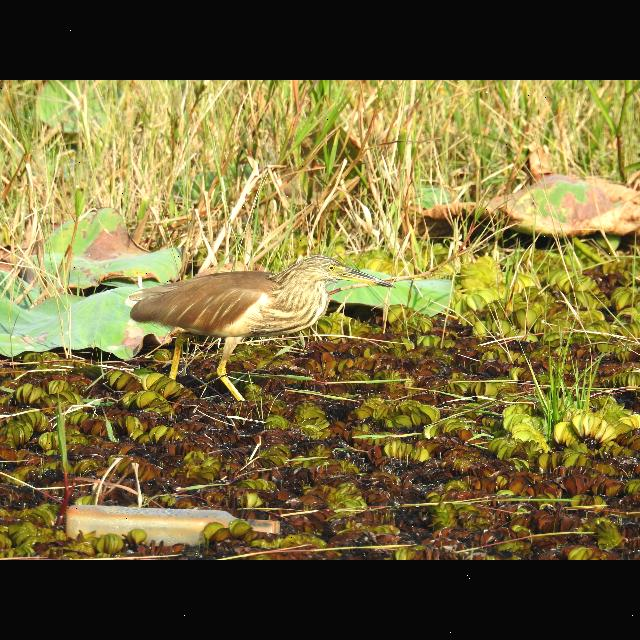heron: (110, 250, 396, 408)
